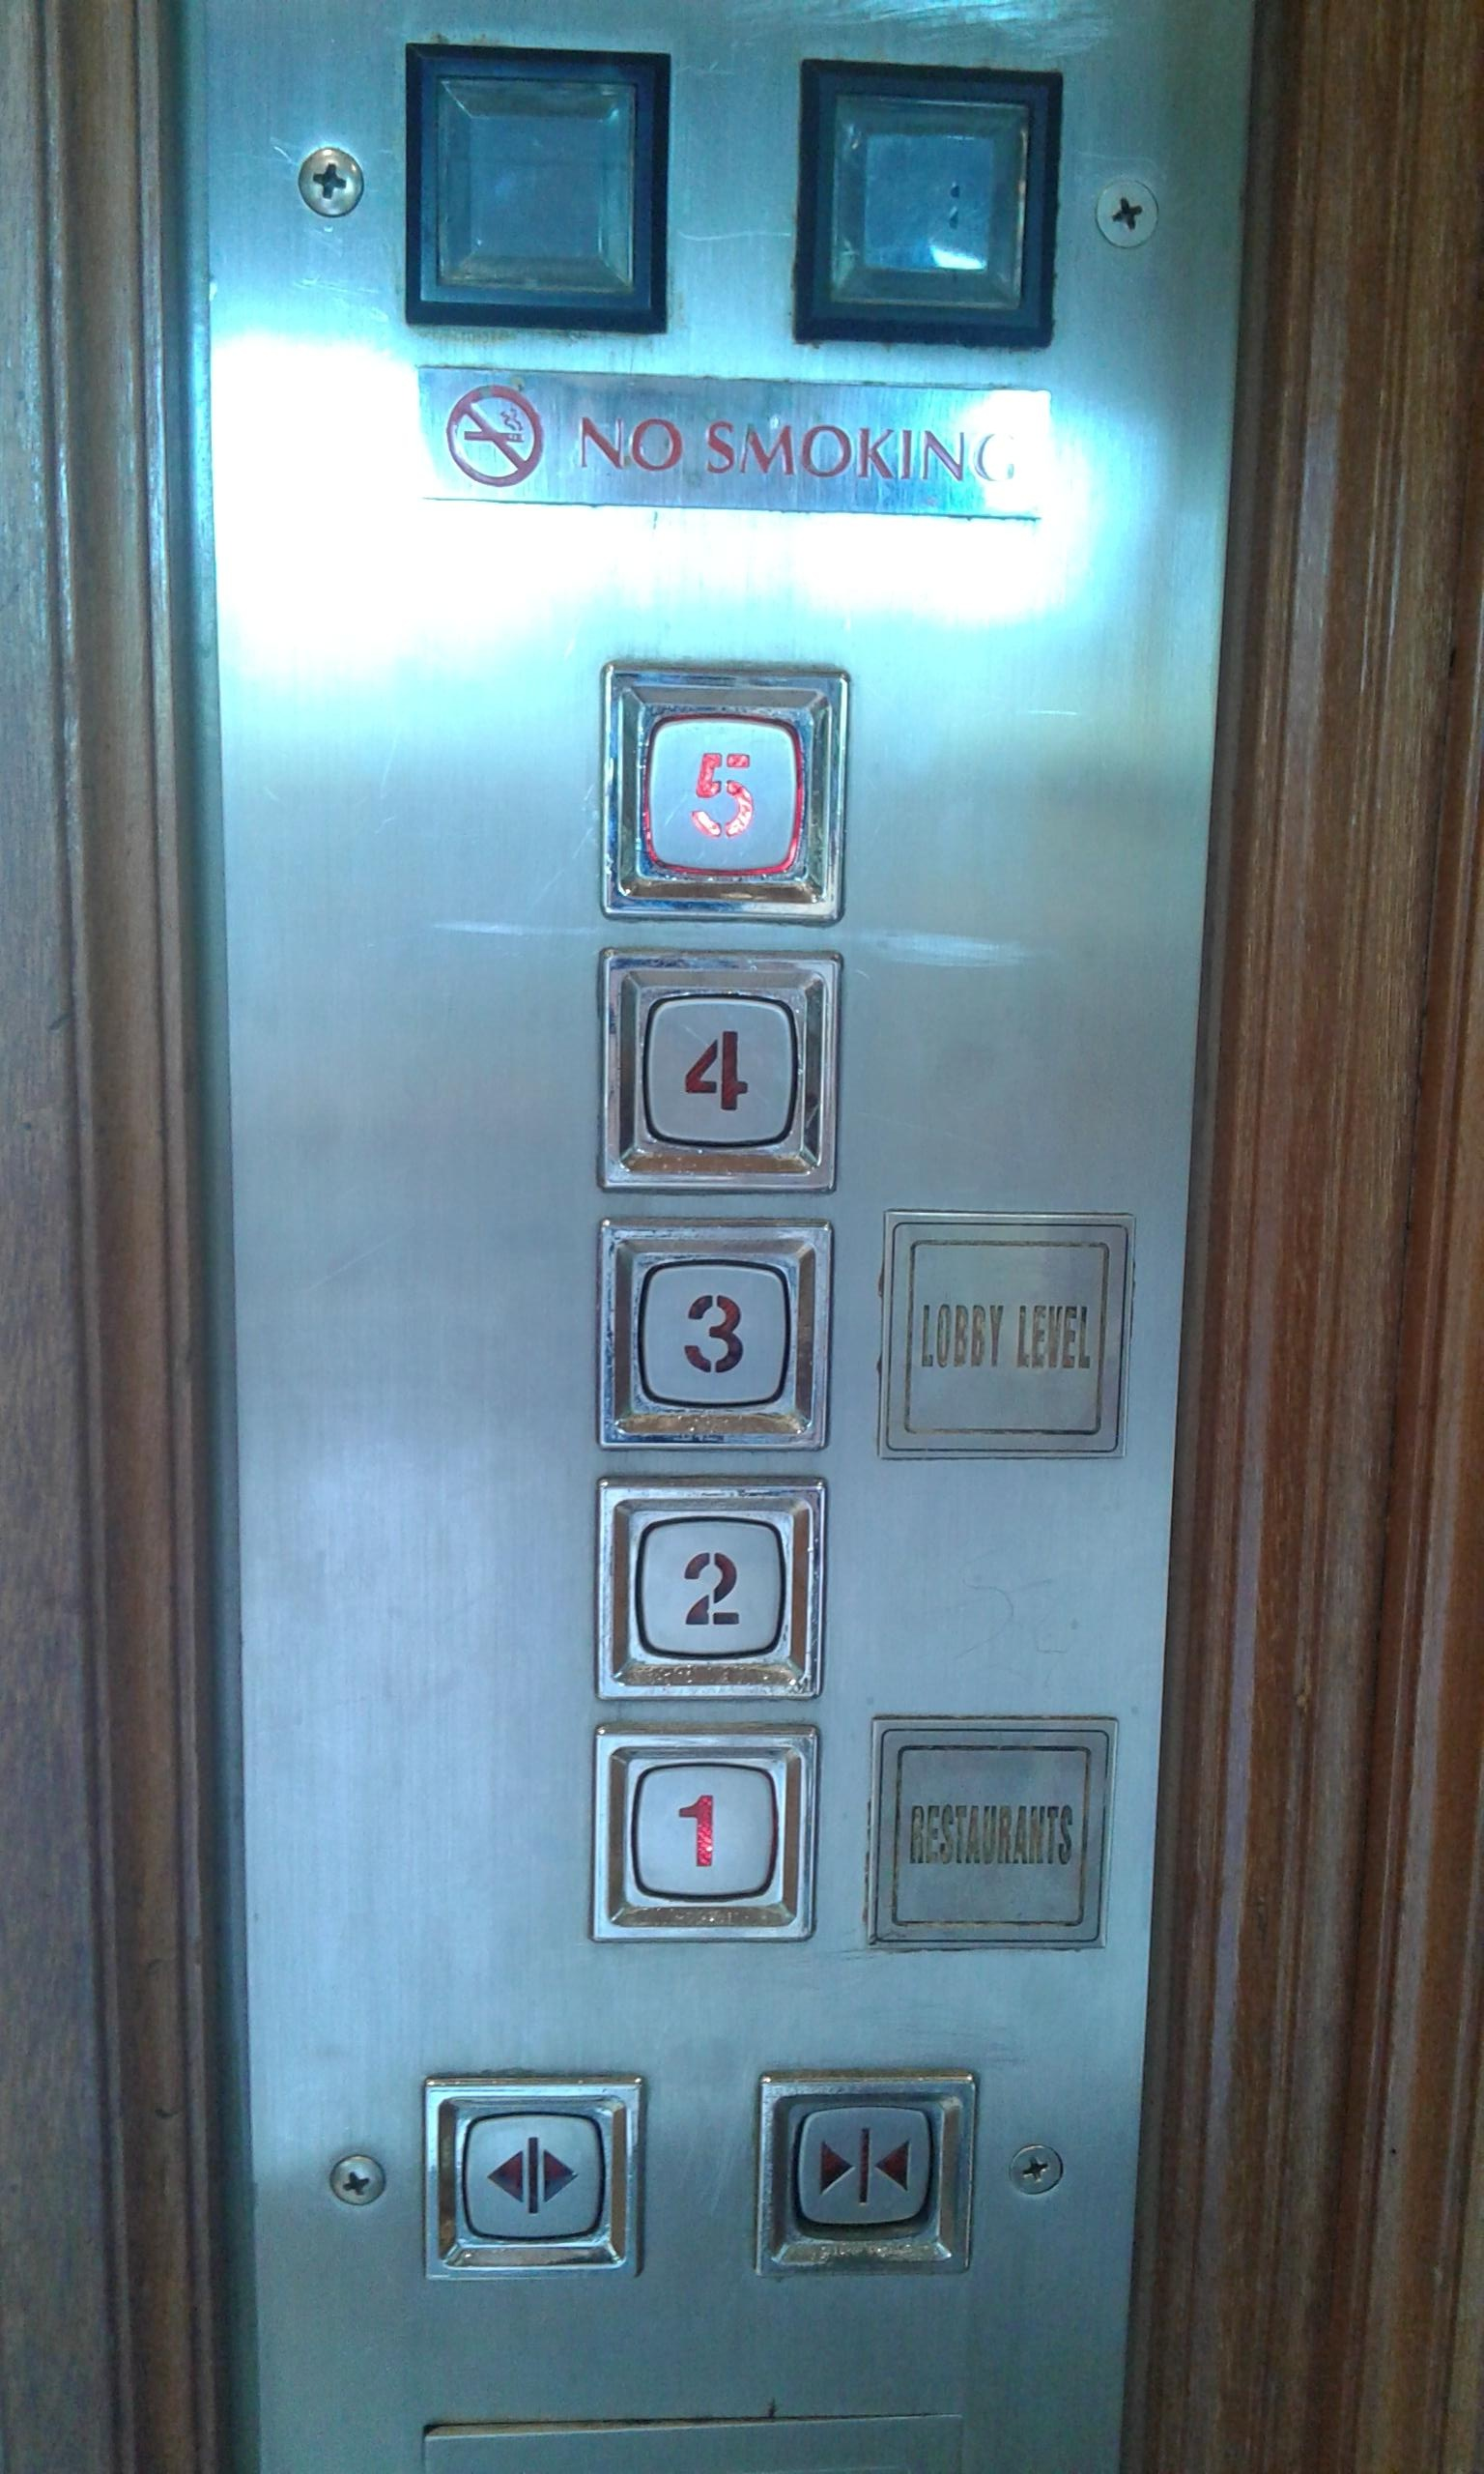1: (587, 1721, 823, 1951)
2: (594, 1465, 834, 1707)
3: (594, 1212, 839, 1454)
4: (594, 944, 846, 1196)
5: (594, 654, 850, 928)
close: (749, 2069, 979, 2281)
empty: (786, 49, 1076, 353), (394, 34, 677, 339)
open: (417, 2068, 645, 2283)
